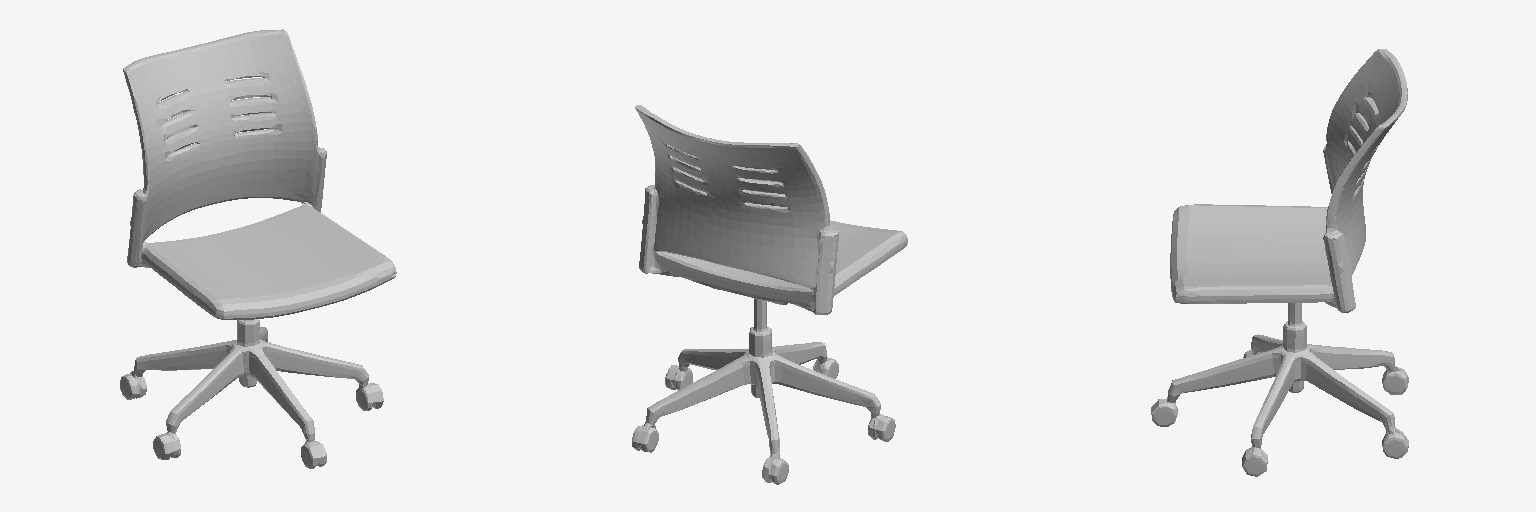
Rendered from silla_75.obj.
The picture shows the model from 3 angles: view 1: azimuth 30°, elevation 25°; view 2: azimuth 150°, elevation 25°; view 3: azimuth 270°, elevation 25°; orthographic projection.
Parts seen in each view (by area): view 1: model.001, model; view 2: model.001, model; view 3: model.001, model.
Part boxes in pixels (x1,y1,x2,y2): model.001: (123,29,396,319); model: (120,319,383,468); model.001: (635,105,907,314); model: (632,327,895,484); model.001: (1170,49,1407,312); model: (1151,321,1408,476).
Bounding box in the file's own units: 1.3 × 1.91 × 1.32.